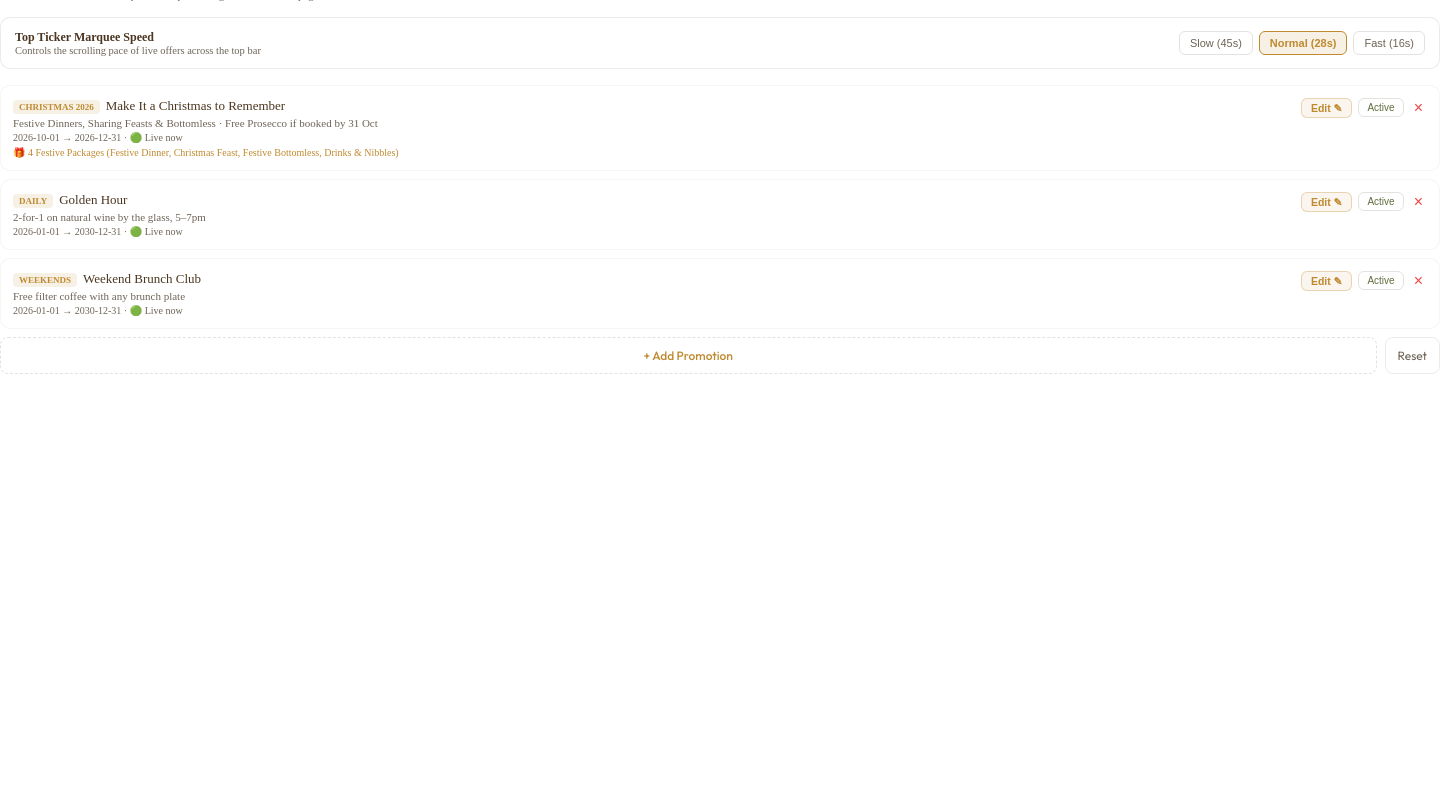
Scenario: PromotionsManager: Staff Offers & Promotions Editing › renders promotions list with Edit button and allows editing a promotion
Expected: the text "Make It a Christmas to Remember" is shown, [106,98,285,113]
Click Edit on the Christmas promotion (first one)
Click the button "Edit ✎" in the row of "Make It a Christmas to Remember". click: (1327, 108)
box: [1301,98,1352,118]
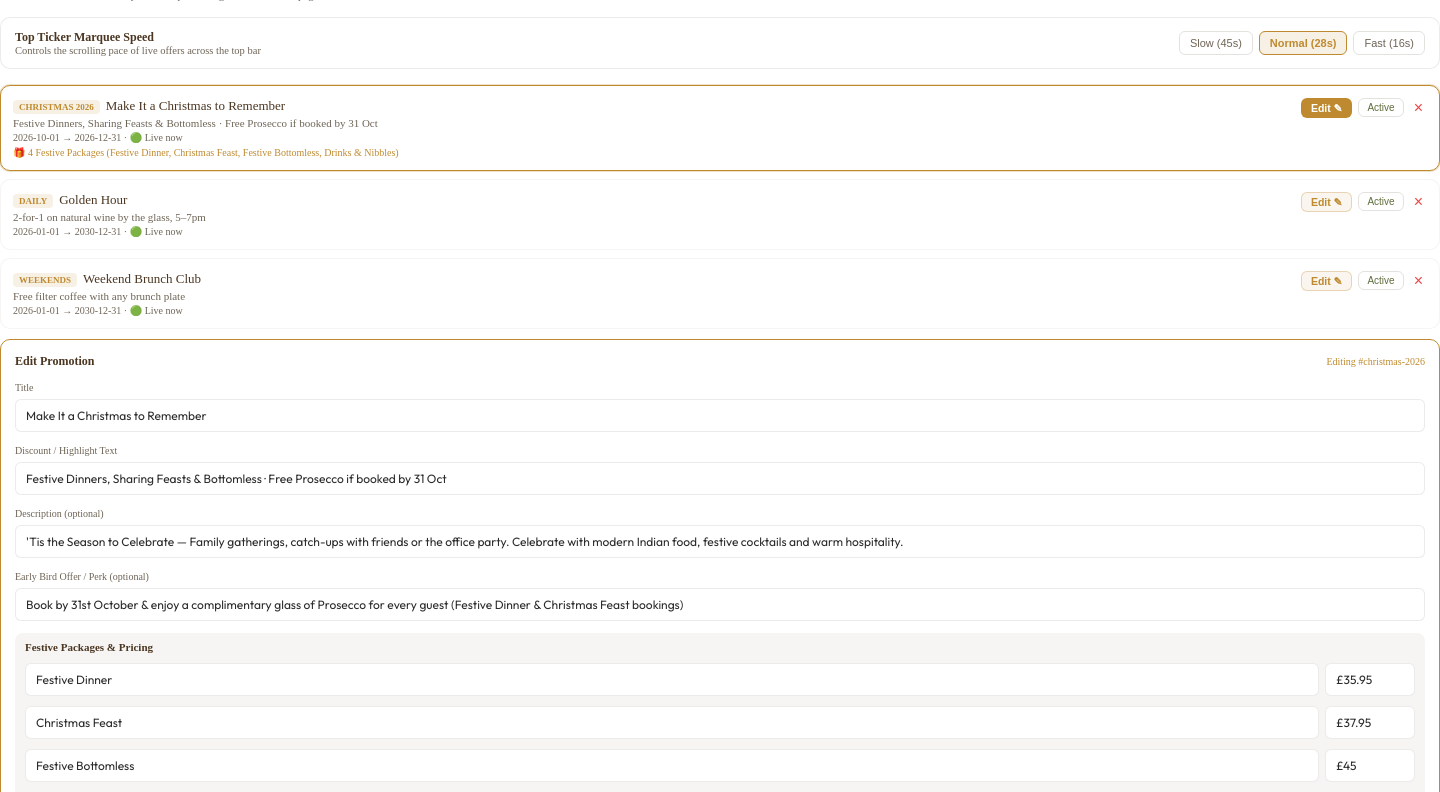
Now the text "Edit Promotion" is shown, box [15,354,94,369]
Now the field showing "Make It a Christmas to Remember" below "Title" is shown
Modify the title
Replace the text in the field showing "Make It a Christmas to Remember" below "Title" with "Make It a Christmas to Remember (Updated)". click: (720, 415)
box: [15,399,1425,432]
(page scrolled)
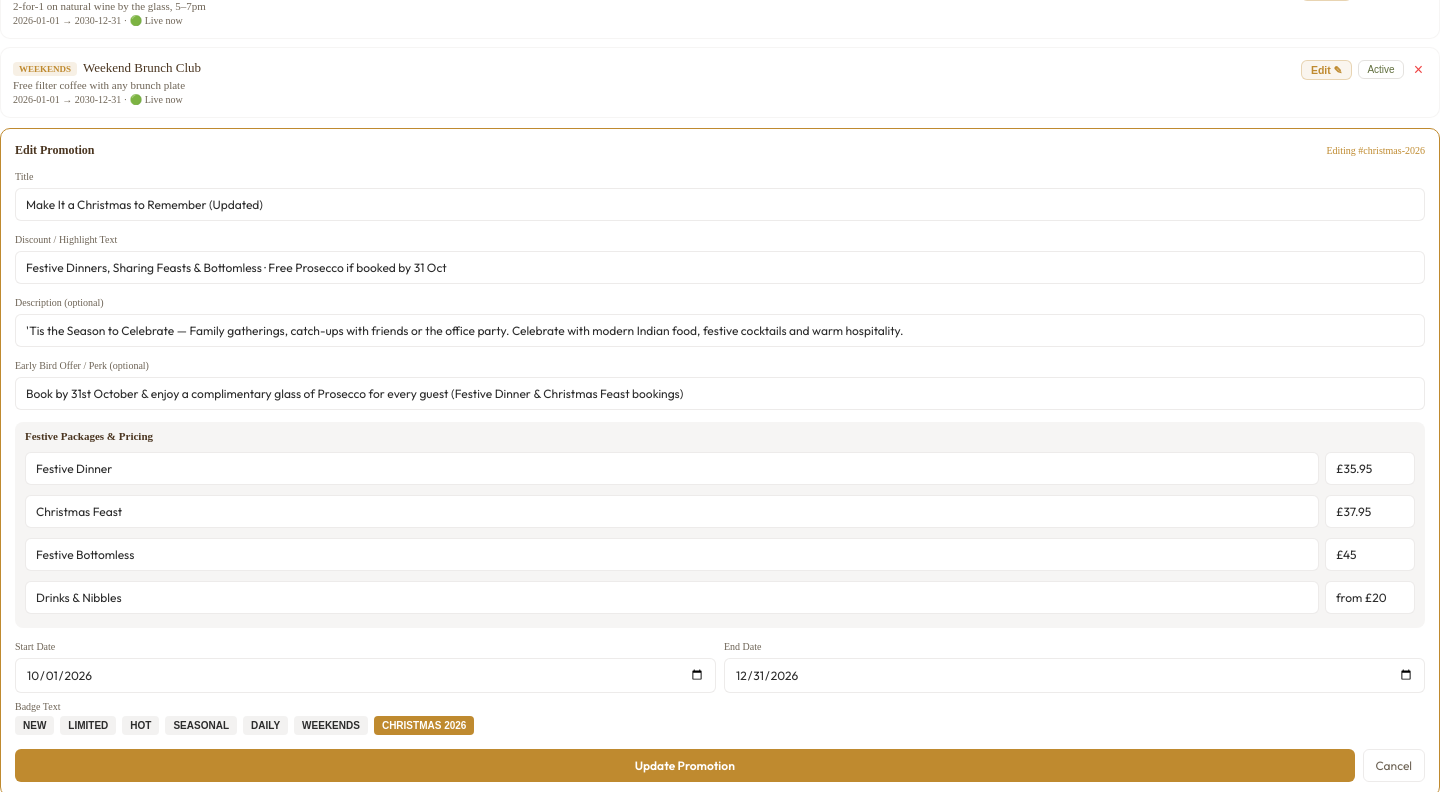
Click "Update Promotion"
Click the button "Update Promotion". click: (685, 765)
box: [15,749,1354,782]
(page scrolled)
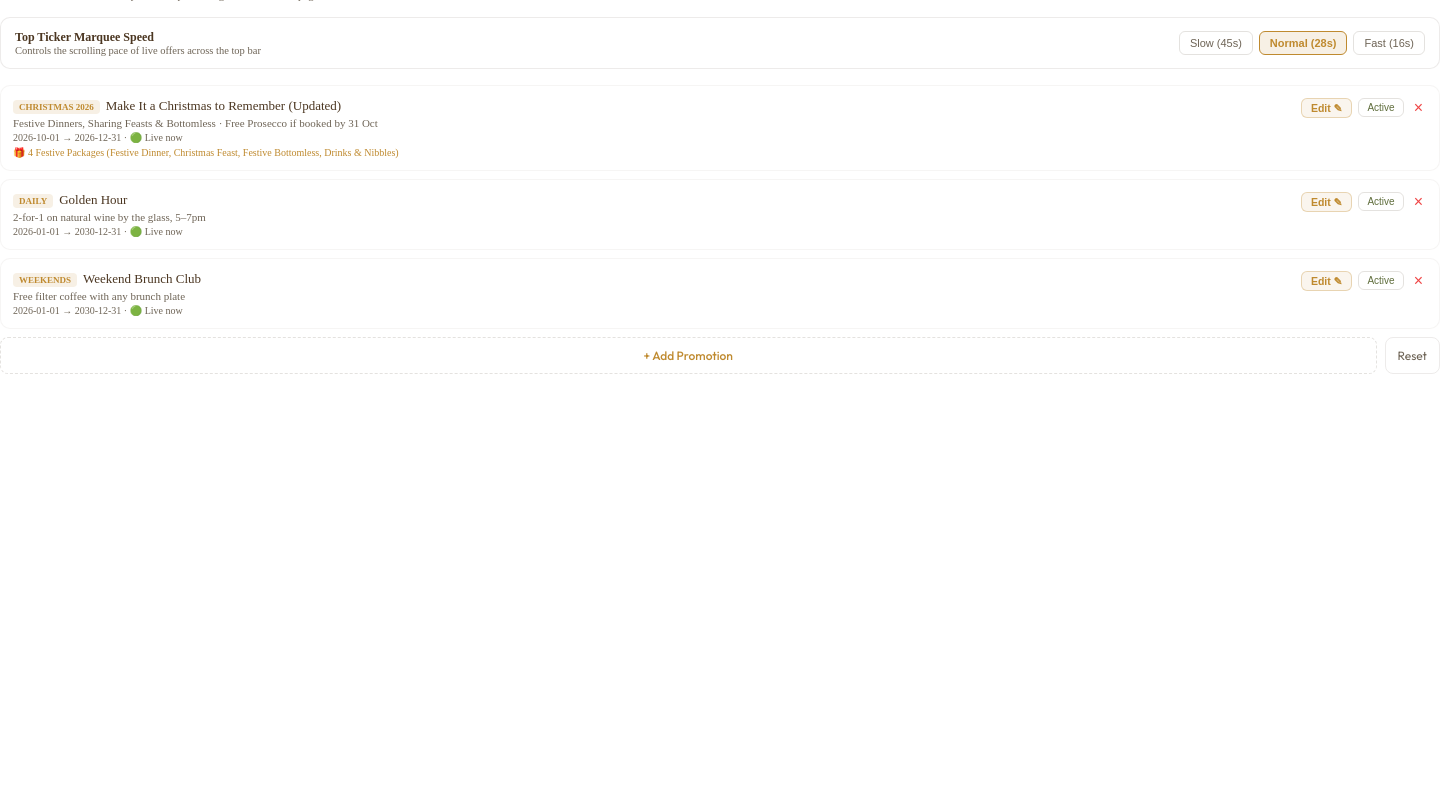
Now the text "Make It a Christmas to Remember (Updated)" is shown, box [106,98,341,113]
